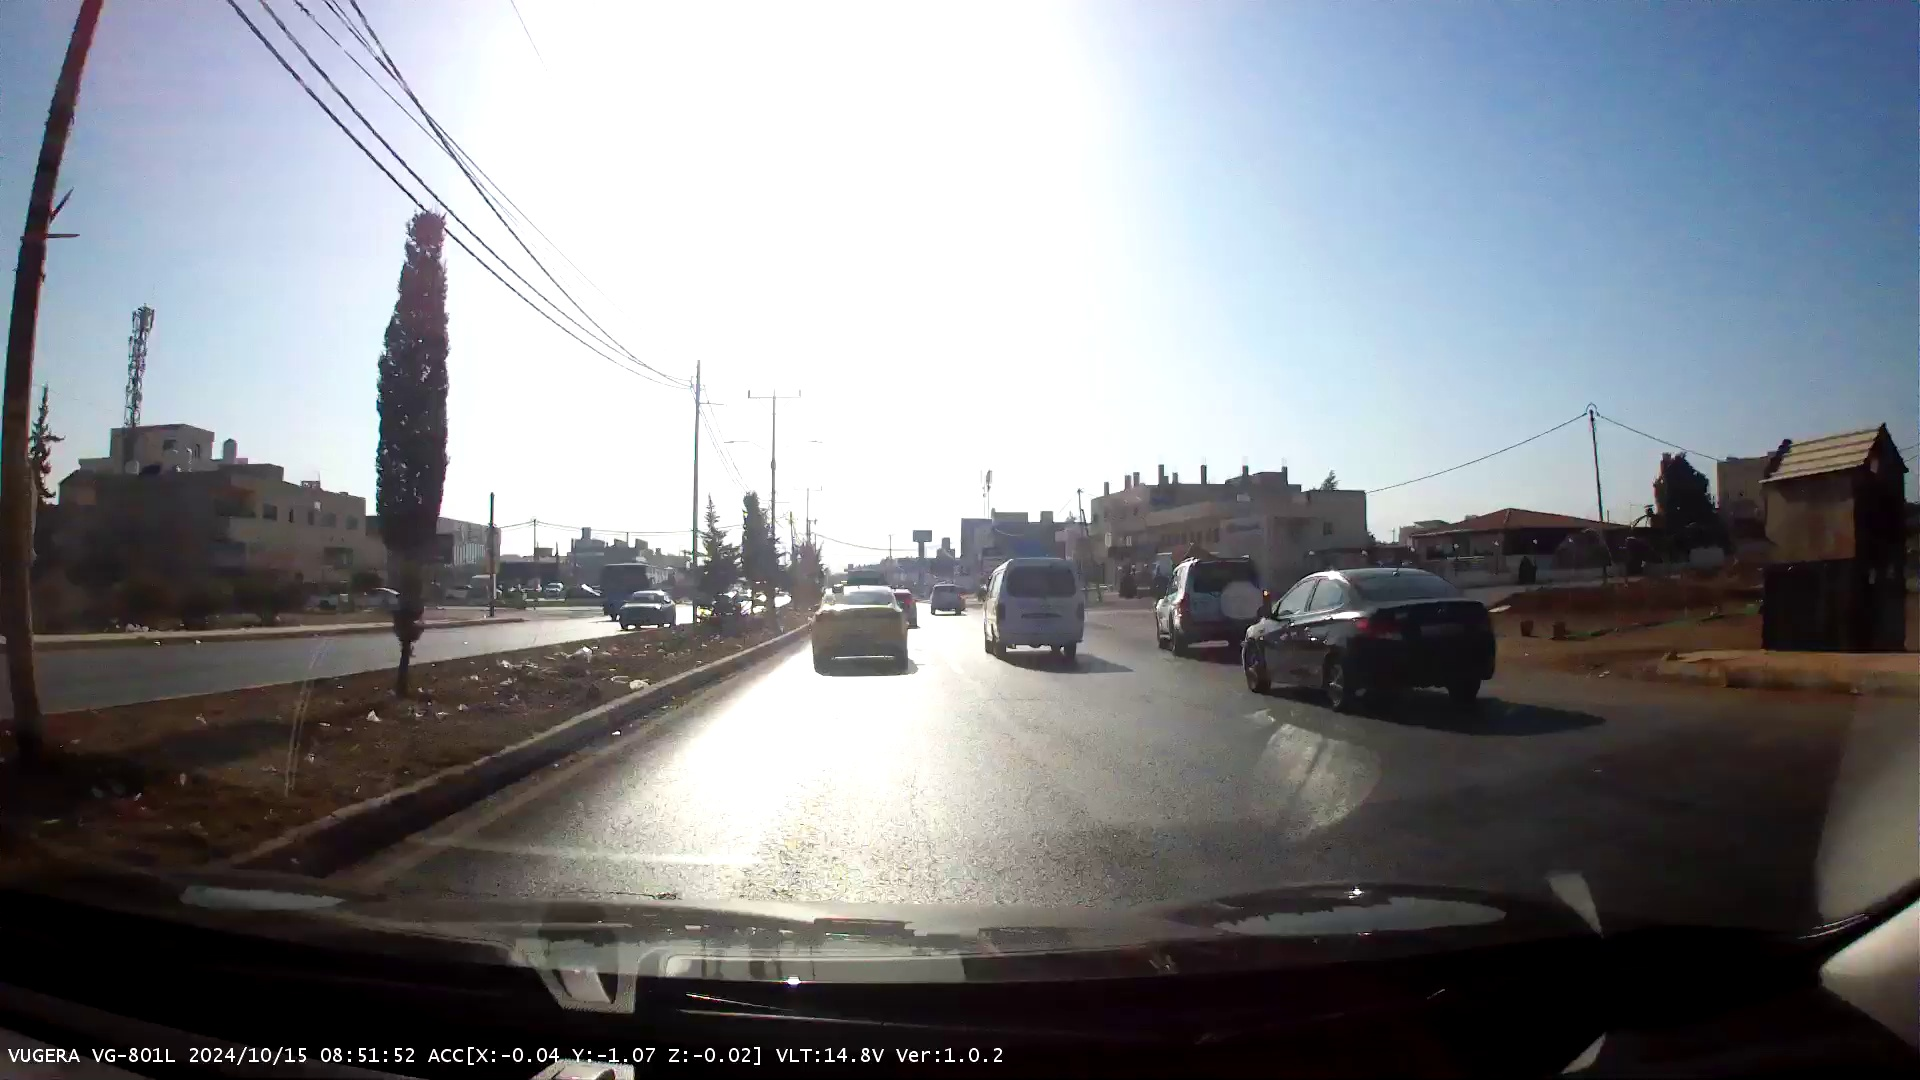vehicle: (1241, 568, 1495, 711), (1155, 554, 1271, 653), (982, 556, 1085, 661), (811, 585, 909, 665), (603, 564, 675, 621), (618, 591, 676, 630), (886, 587, 918, 629), (928, 584, 963, 616), (349, 588, 400, 608), (444, 585, 475, 599), (543, 582, 563, 597)
